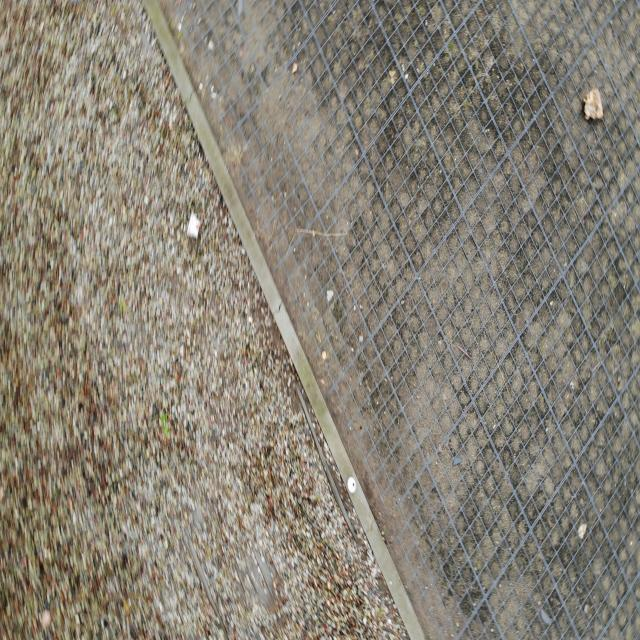rubbish: (582, 85, 603, 121), (186, 209, 201, 239), (348, 477, 356, 492)
